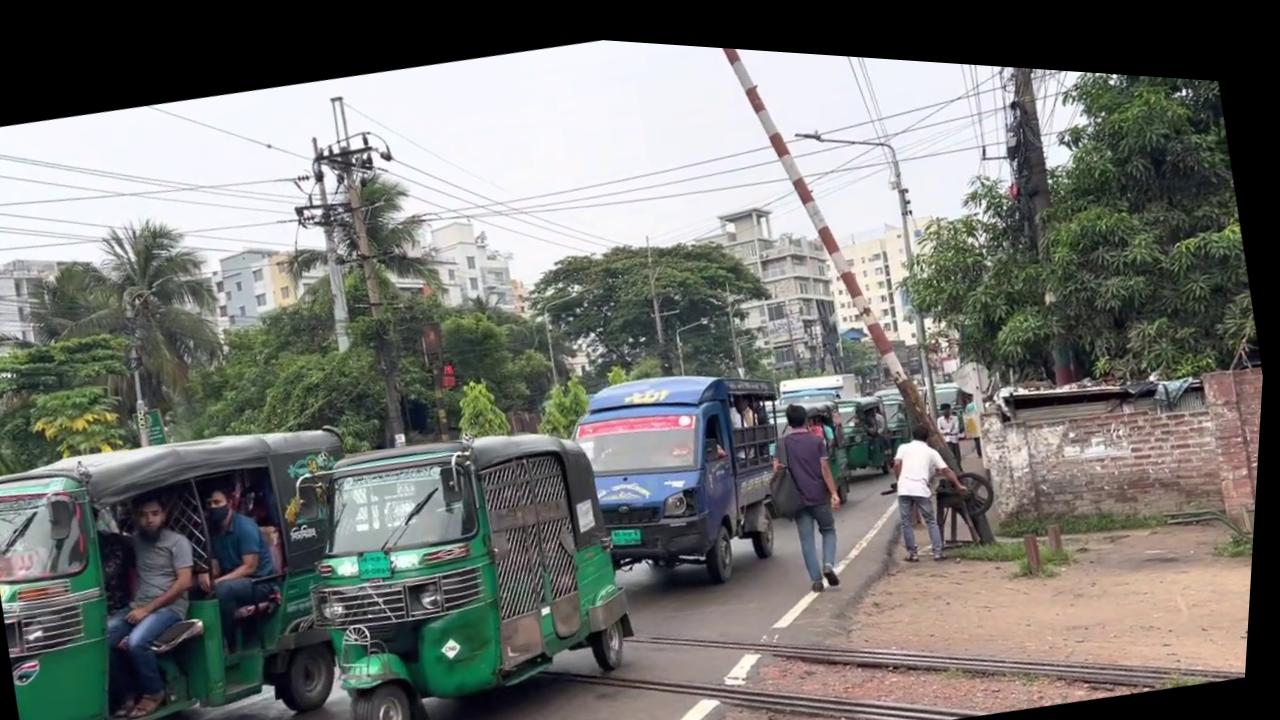Fence: (77, 478, 234, 720), (181, 472, 303, 658), (758, 383, 868, 587), (881, 401, 989, 556)
Garbage: (969, 52, 1099, 375), (313, 87, 430, 445)
Motorcycle: (532, 488, 1259, 720)
Rickshaw: (0, 391, 404, 720), (279, 388, 671, 720), (555, 336, 819, 604)
